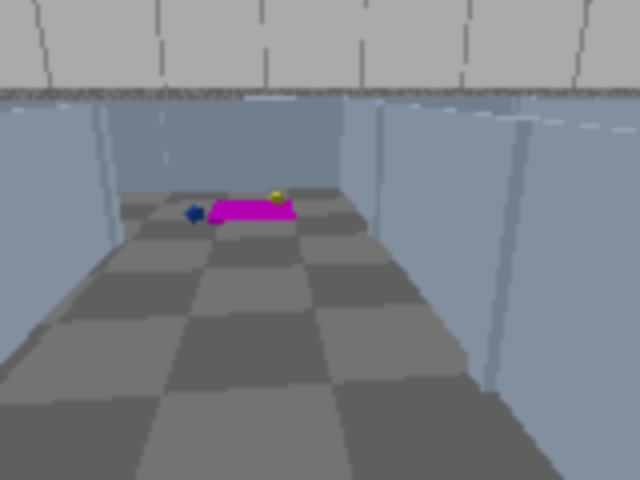goal_zone: (206, 199, 296, 223)
puck: (183, 203, 206, 225)
